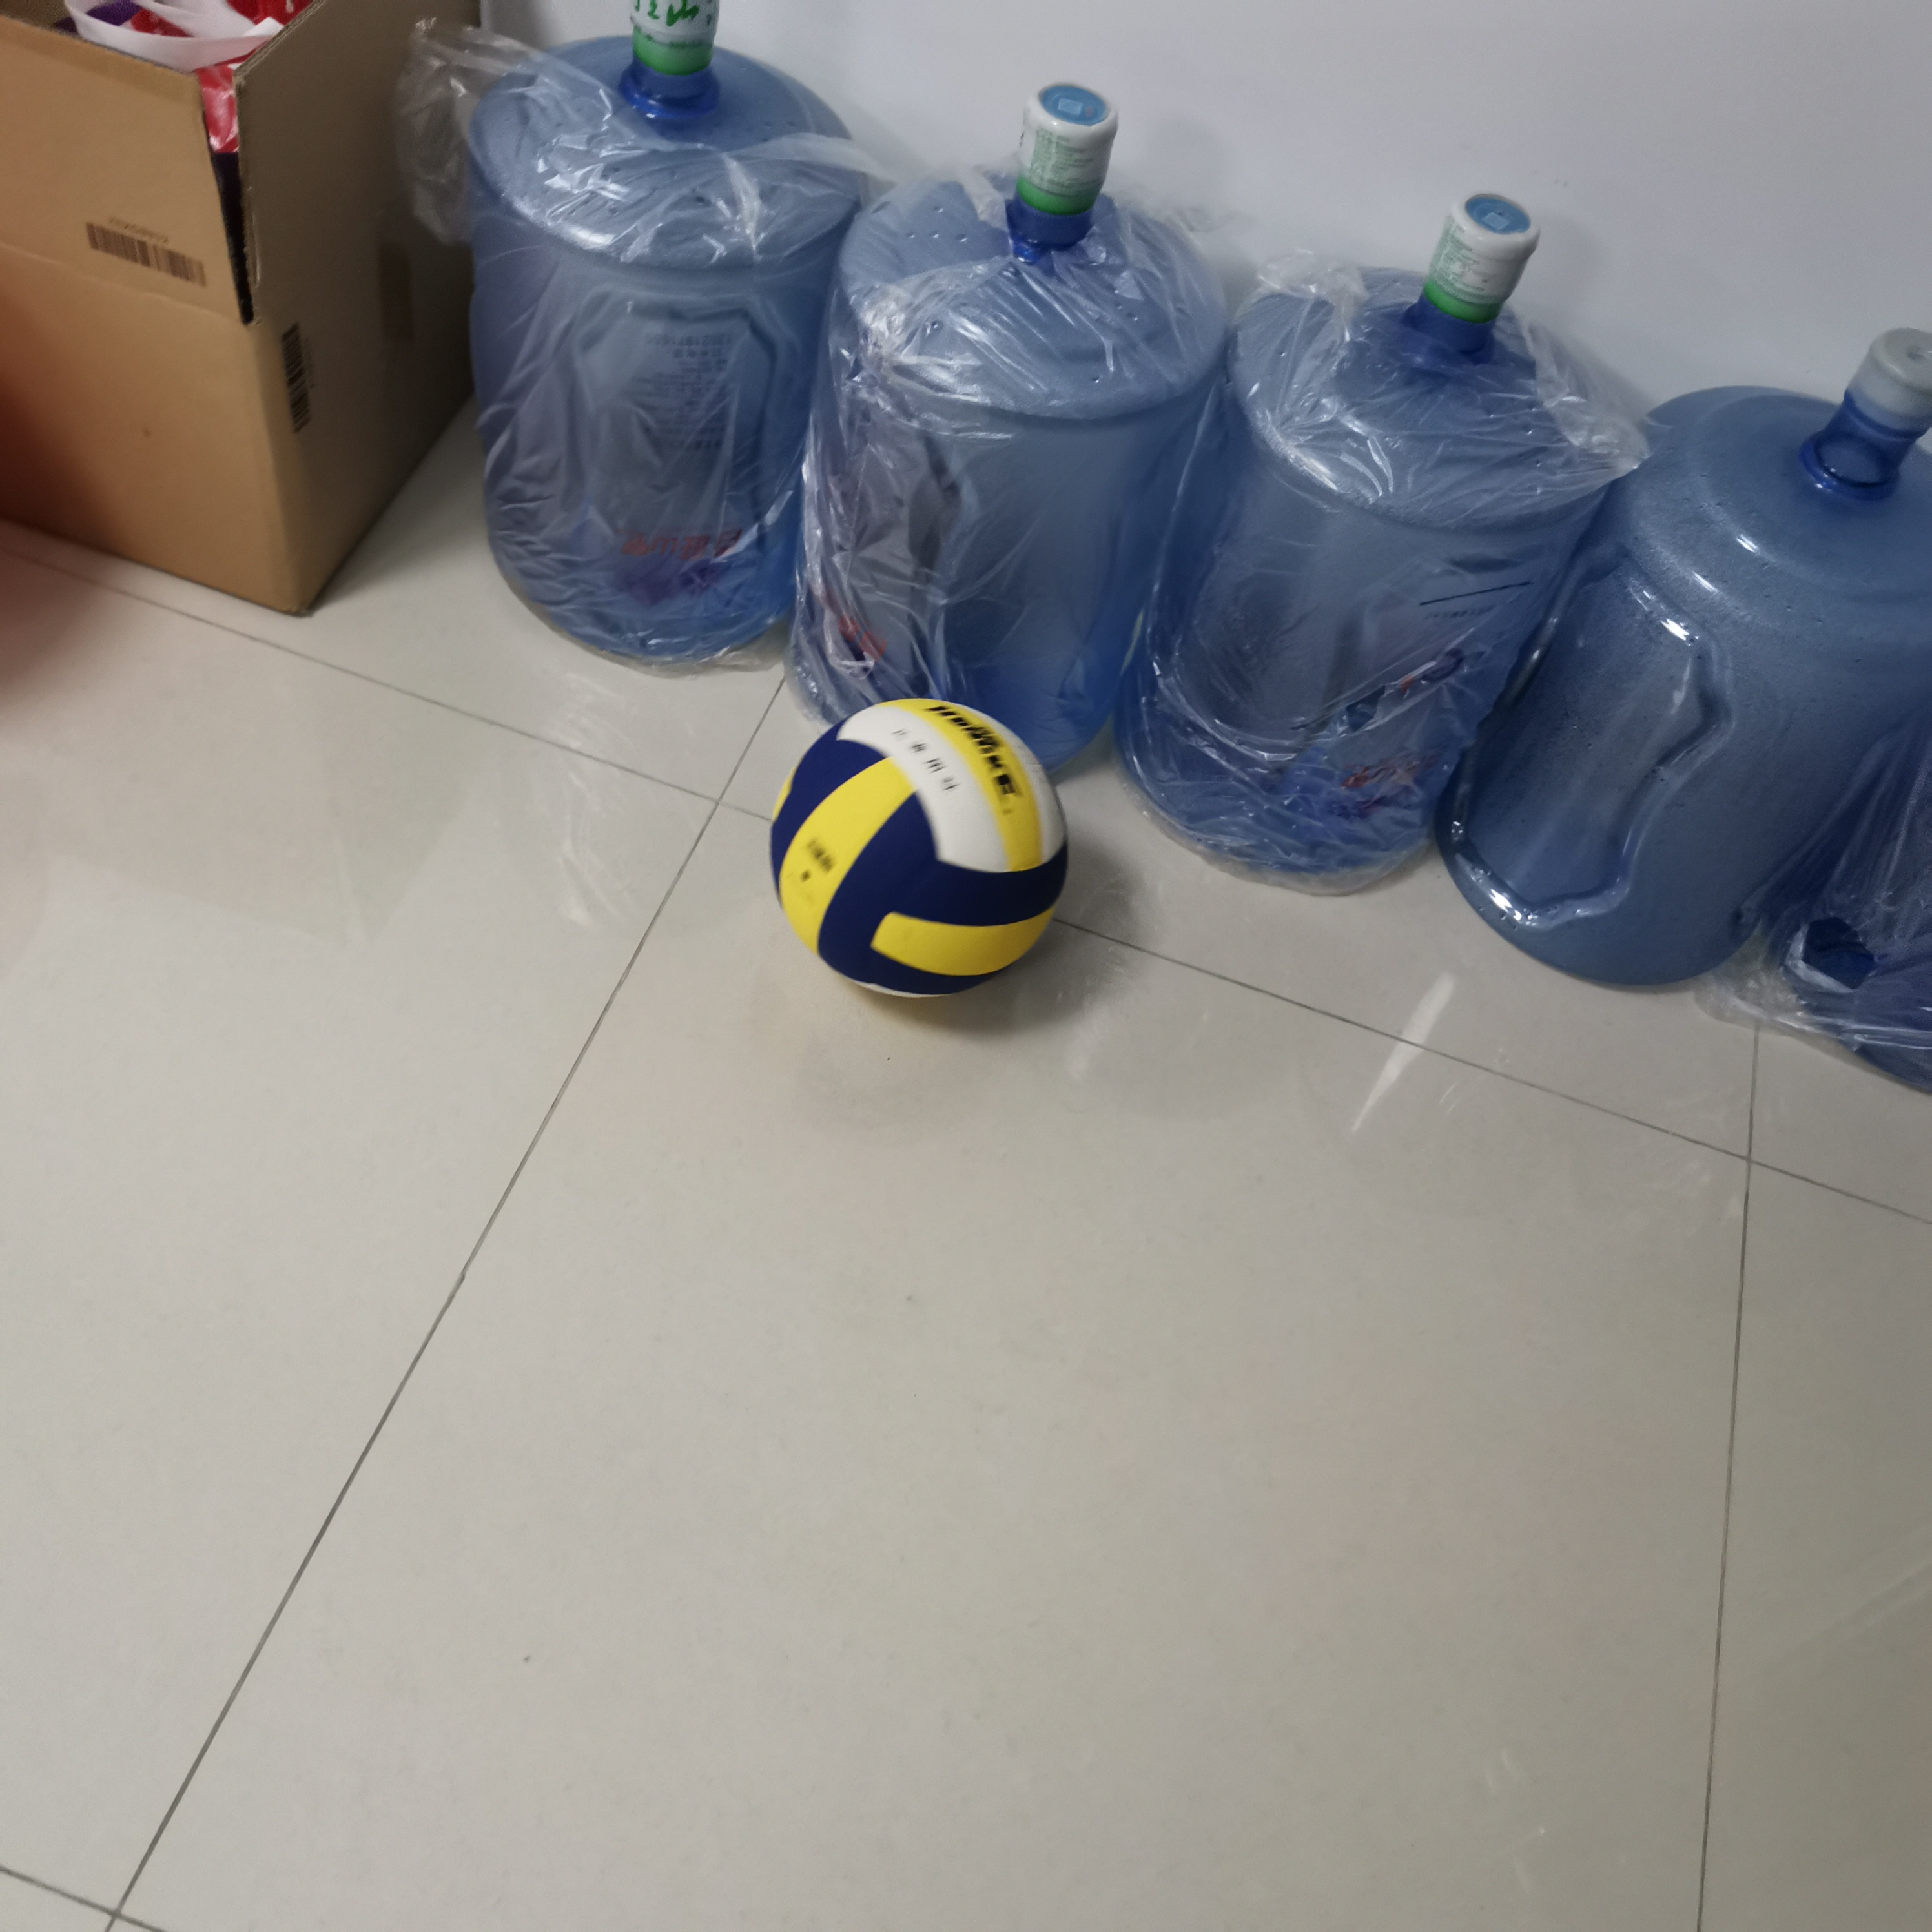volleyball: (777, 699, 1074, 1003)
